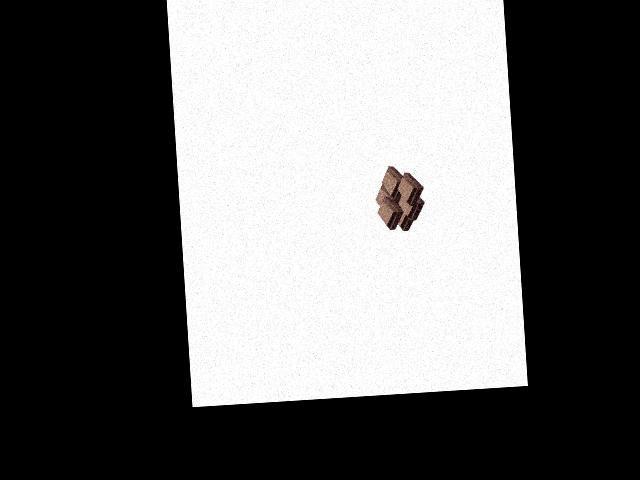chocolate: (371, 165, 424, 234)
